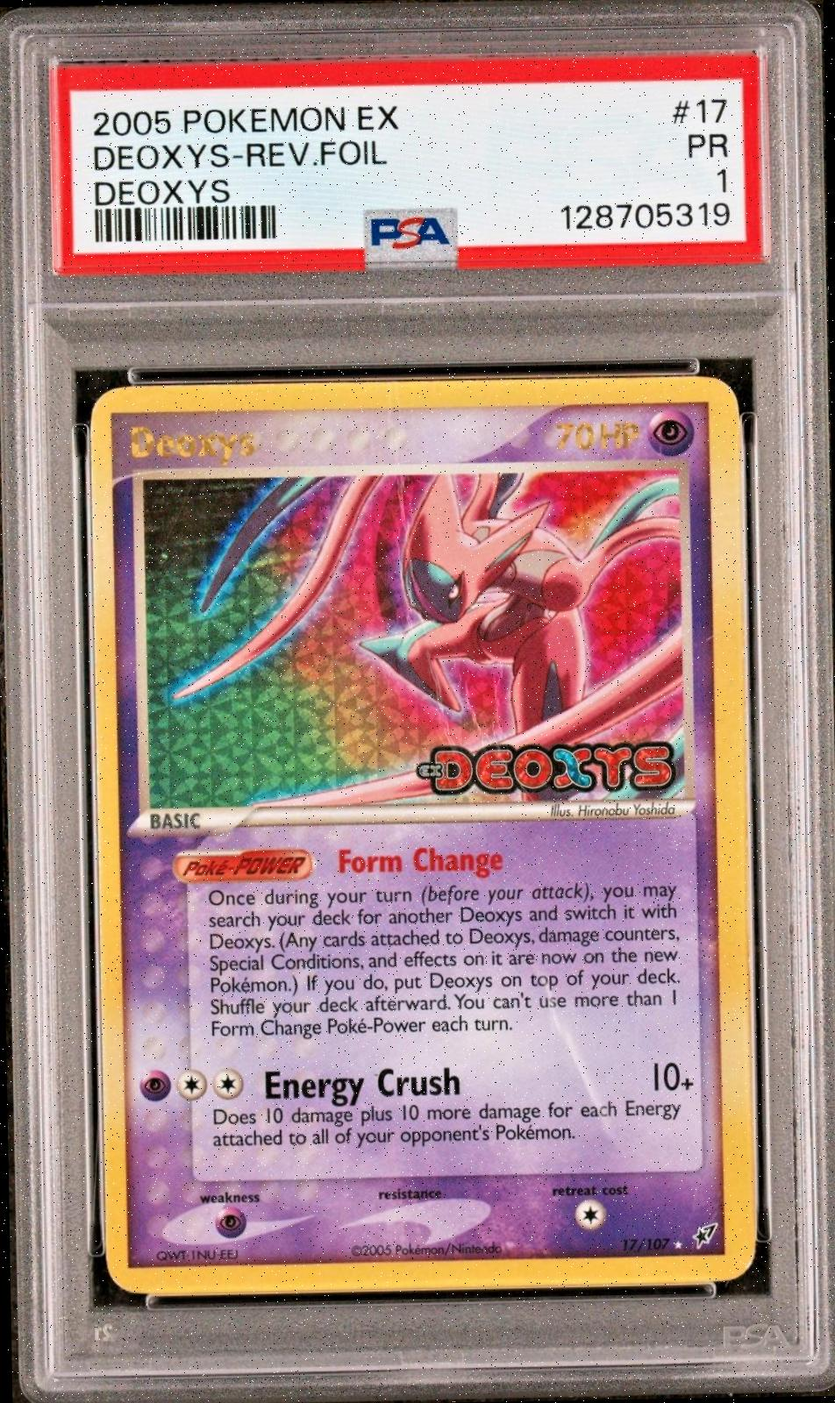card-2UtV: (89, 375, 757, 1294)
